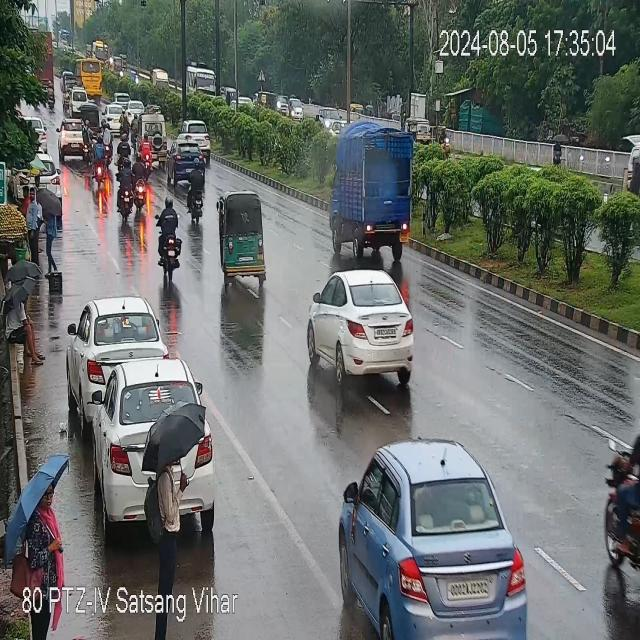2-wheelers: (604, 425, 640, 578), (160, 194, 182, 279), (184, 166, 209, 225), (134, 153, 148, 216), (120, 158, 132, 219), (94, 136, 105, 188), (142, 131, 152, 180), (102, 121, 113, 164), (119, 133, 132, 165), (83, 118, 91, 162), (132, 112, 139, 150), (120, 109, 129, 137)
auto: (213, 189, 269, 288), (40, 153, 62, 190)
bus: (188, 61, 216, 101), (81, 54, 102, 94)
car: (340, 440, 526, 640), (90, 360, 205, 508), (300, 266, 414, 382), (69, 294, 160, 398), (166, 138, 203, 184), (180, 118, 214, 154), (150, 116, 172, 166), (58, 115, 80, 161), (104, 104, 120, 124)
pedestrian: (151, 445, 192, 594), (31, 480, 69, 590), (25, 184, 63, 265), (6, 303, 44, 364)
truck: (337, 112, 422, 258)
